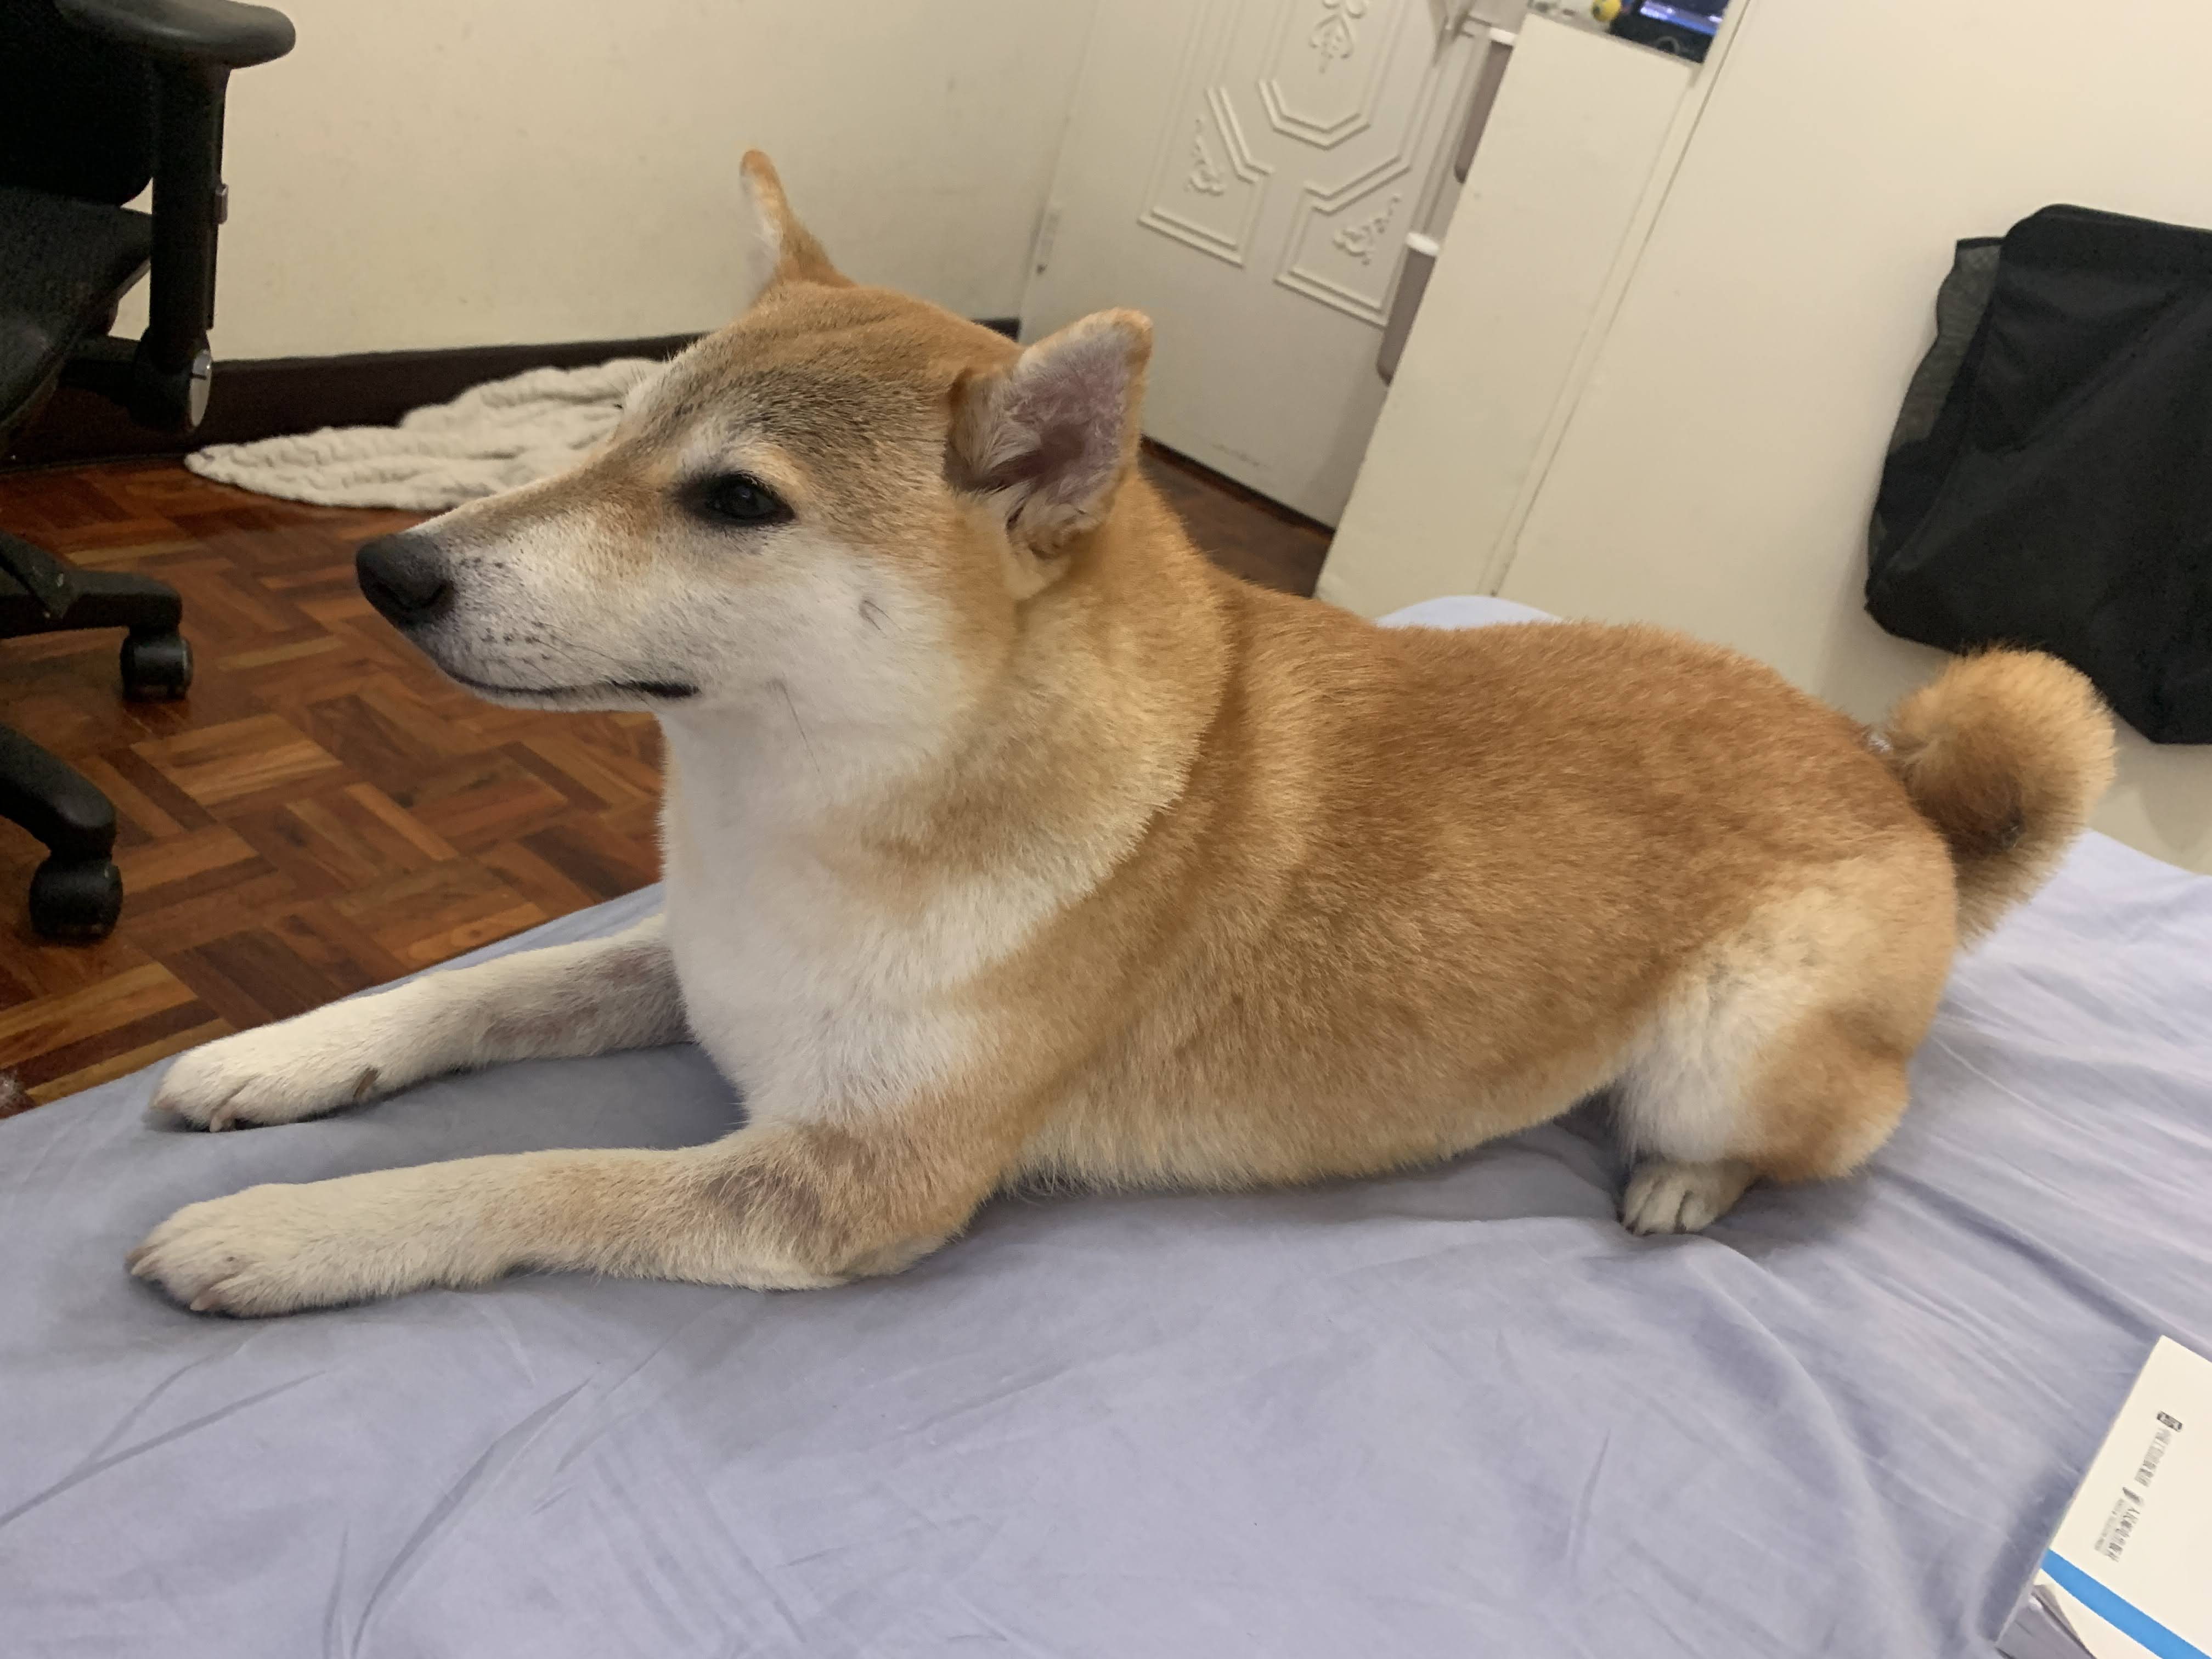Lie down: (103, 131, 2148, 1347)
